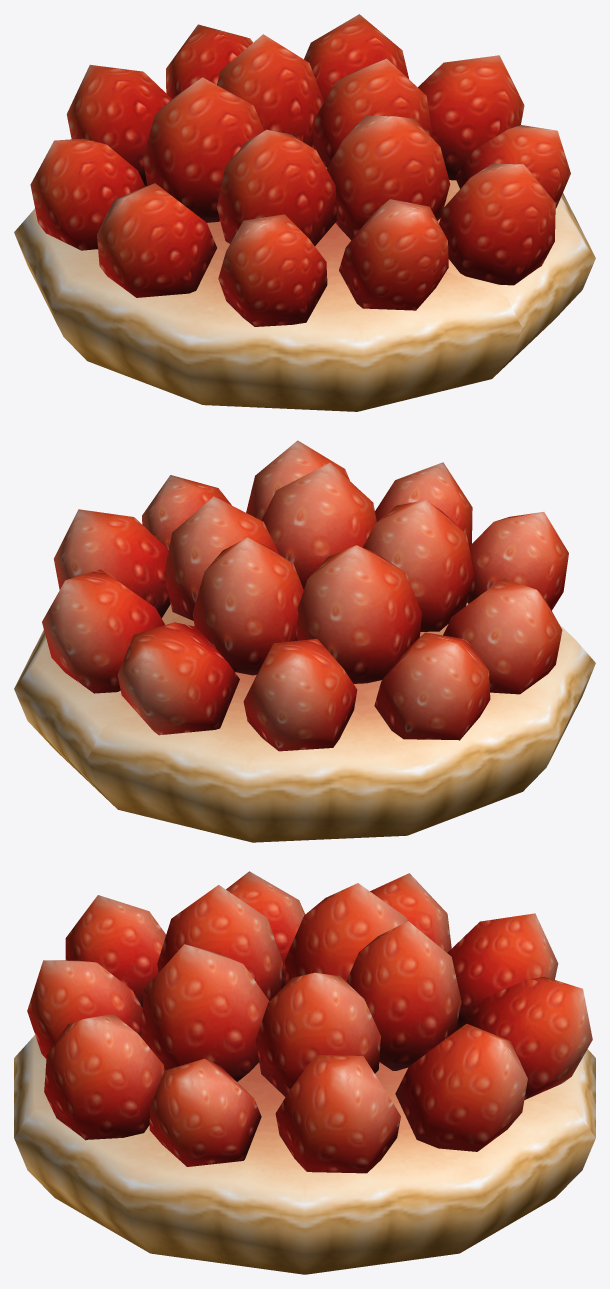
File: cofee_wj_diy05.FBX
3 renders of one model, top to bottom at view 1: azimuth 30°, elevation 25°; view 2: azimuth 150°, elevation 25°; view 3: azimuth 270°, elevation 25°, orthographic. The views are drawn at different scales.
Parts seen in each view (by area): view 1: cofee_wj_diy05; view 2: cofee_wj_diy05; view 3: cofee_wj_diy05.
Boxes of the visible parts, x1,y1,x2,y2 form: cofee_wj_diy05: (14,14,595,411); cofee_wj_diy05: (14,440,595,842); cofee_wj_diy05: (14,871,595,1274).
Bounding box in the file's own units: 32.35 × 14.38 × 30.77.
1 material, 1 textured.
